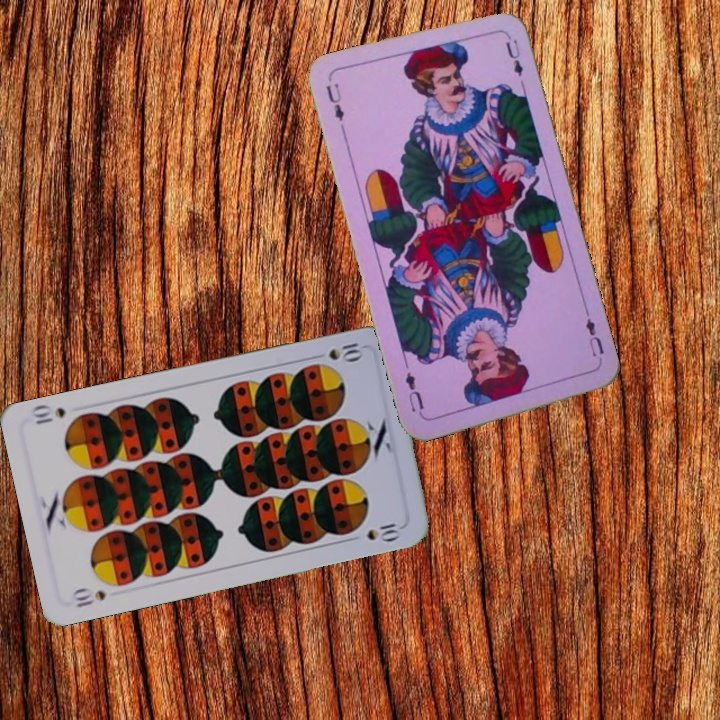EU: (581, 309, 607, 367), (322, 78, 347, 124)
S10: (308, 338, 366, 364), (66, 584, 109, 610)
